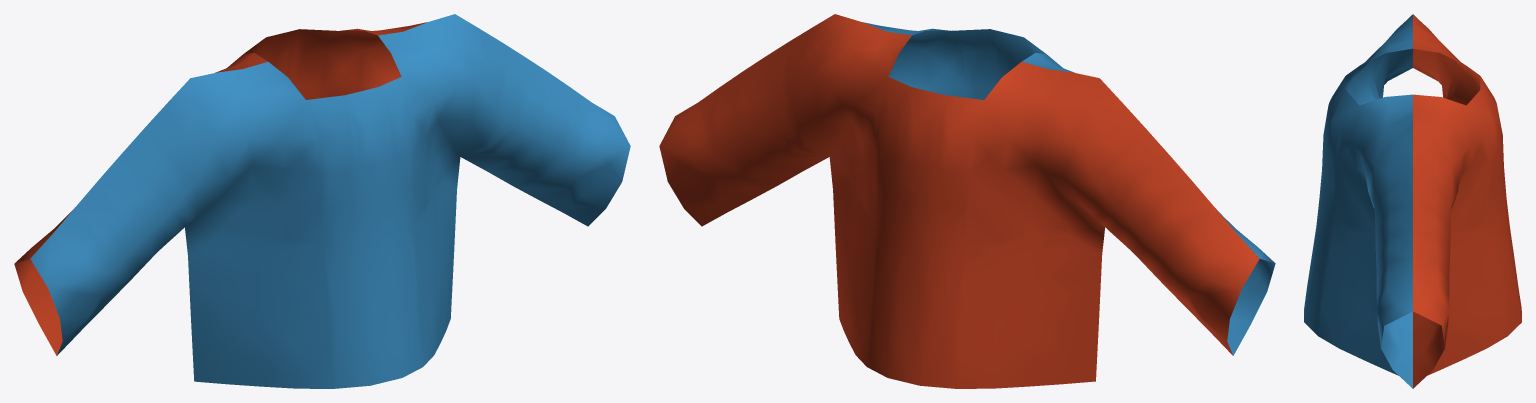
The model's file is harbor-reopened.obj.
The picture shows the model from 3 angles, left to right: view 1: azimuth 30°, elevation 25°; view 2: azimuth 150°, elevation 25°; view 3: azimuth 270°, elevation 25°; orthographic projection. The views are drawn at different scales.
Visible parts, largest first — view 1: piece_4, piece_33; view 2: piece_33, piece_4; view 3: piece_33, piece_4.
Boxes of the visible parts, <box> form: piece_4: <box>30,14,630,388</box>; piece_33: <box>14,22,427,355</box>; piece_33: <box>659,14,1259,388</box>; piece_4: <box>862,22,1275,355</box>; piece_33: <box>1413,14,1521,388</box>; piece_4: <box>1304,14,1412,388</box>.
Bounding box in the file's own units: 1.19 × 0.5924 × 0.4506.
